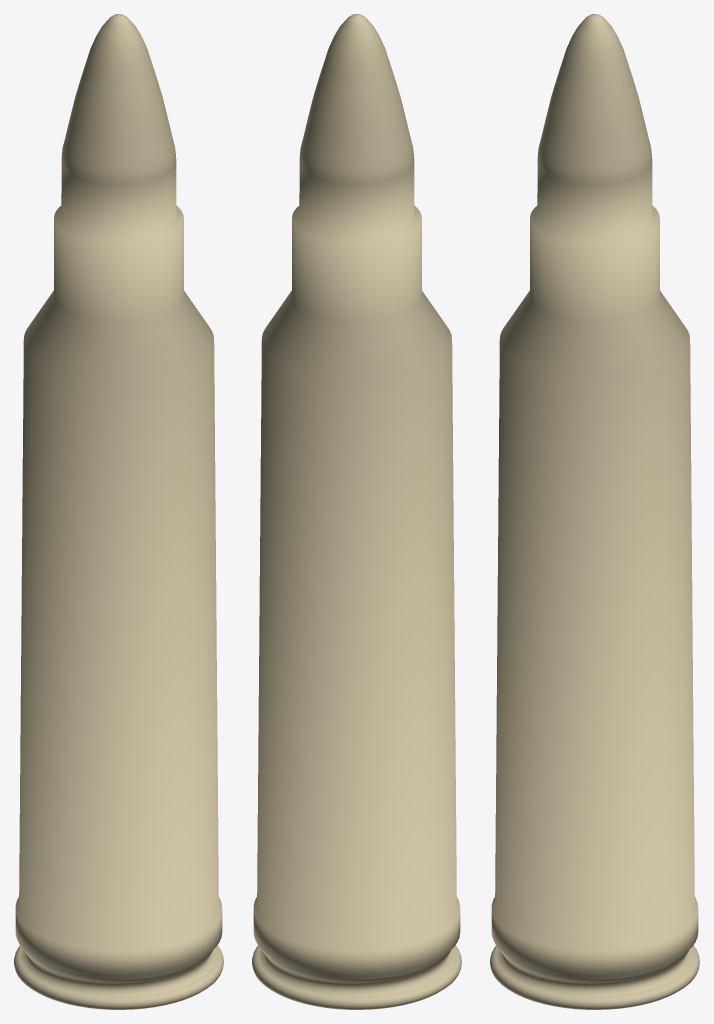
The model's file is bullet1.fbx.
3 views of the same model, side by side, from view 1: azimuth 30°, elevation 25°; view 2: azimuth 150°, elevation 25°; view 3: azimuth 270°, elevation 25° (orthographic).
Visible parts, largest first — view 1: Boole; view 2: Boole; view 3: Boole.
Part boxes in pixels (x1=…): Boole: x1=14, y1=14, x2=223, y2=1009; Boole: x1=252, y1=14, x2=461, y2=1009; Boole: x1=490, y1=14, x2=699, y2=1009.
Bounding box in the file's own units: 86.02 × 430 × 85.99.
